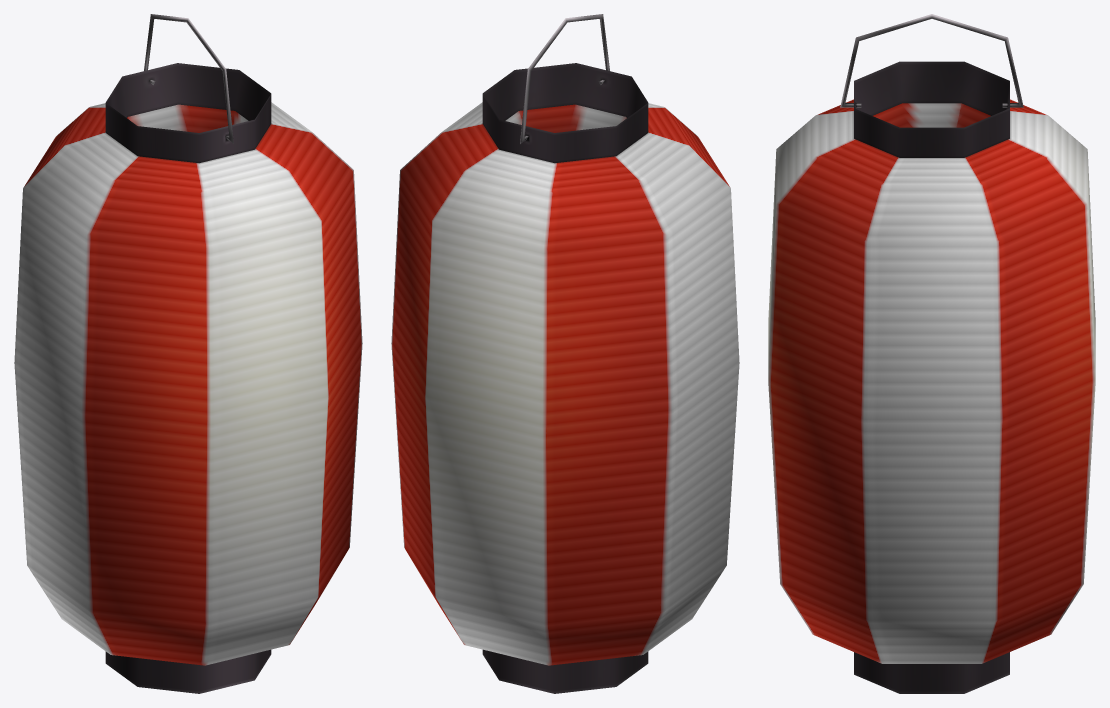
File: jsf_Light_Lantern_05.fbx
The picture shows the model from 3 angles, left to right: view 1: azimuth 30°, elevation 25°; view 2: azimuth 150°, elevation 25°; view 3: azimuth 270°, elevation 25°; orthographic projection.
Parts seen in each view (by area): view 1: Lantern, Handle; view 2: Lantern, Handle; view 3: Lantern, Handle.
Part boxes in pixels (x1,y1,x2,y2): Lantern: (14, 63, 362, 693); Handle: (144, 14, 233, 143); Lantern: (391, 63, 739, 693); Handle: (520, 14, 609, 143); Lantern: (768, 61, 1095, 693); Handle: (840, 14, 1023, 107).
Bounding box in the file's own units: 24.44 × 53.27 × 24.44.
